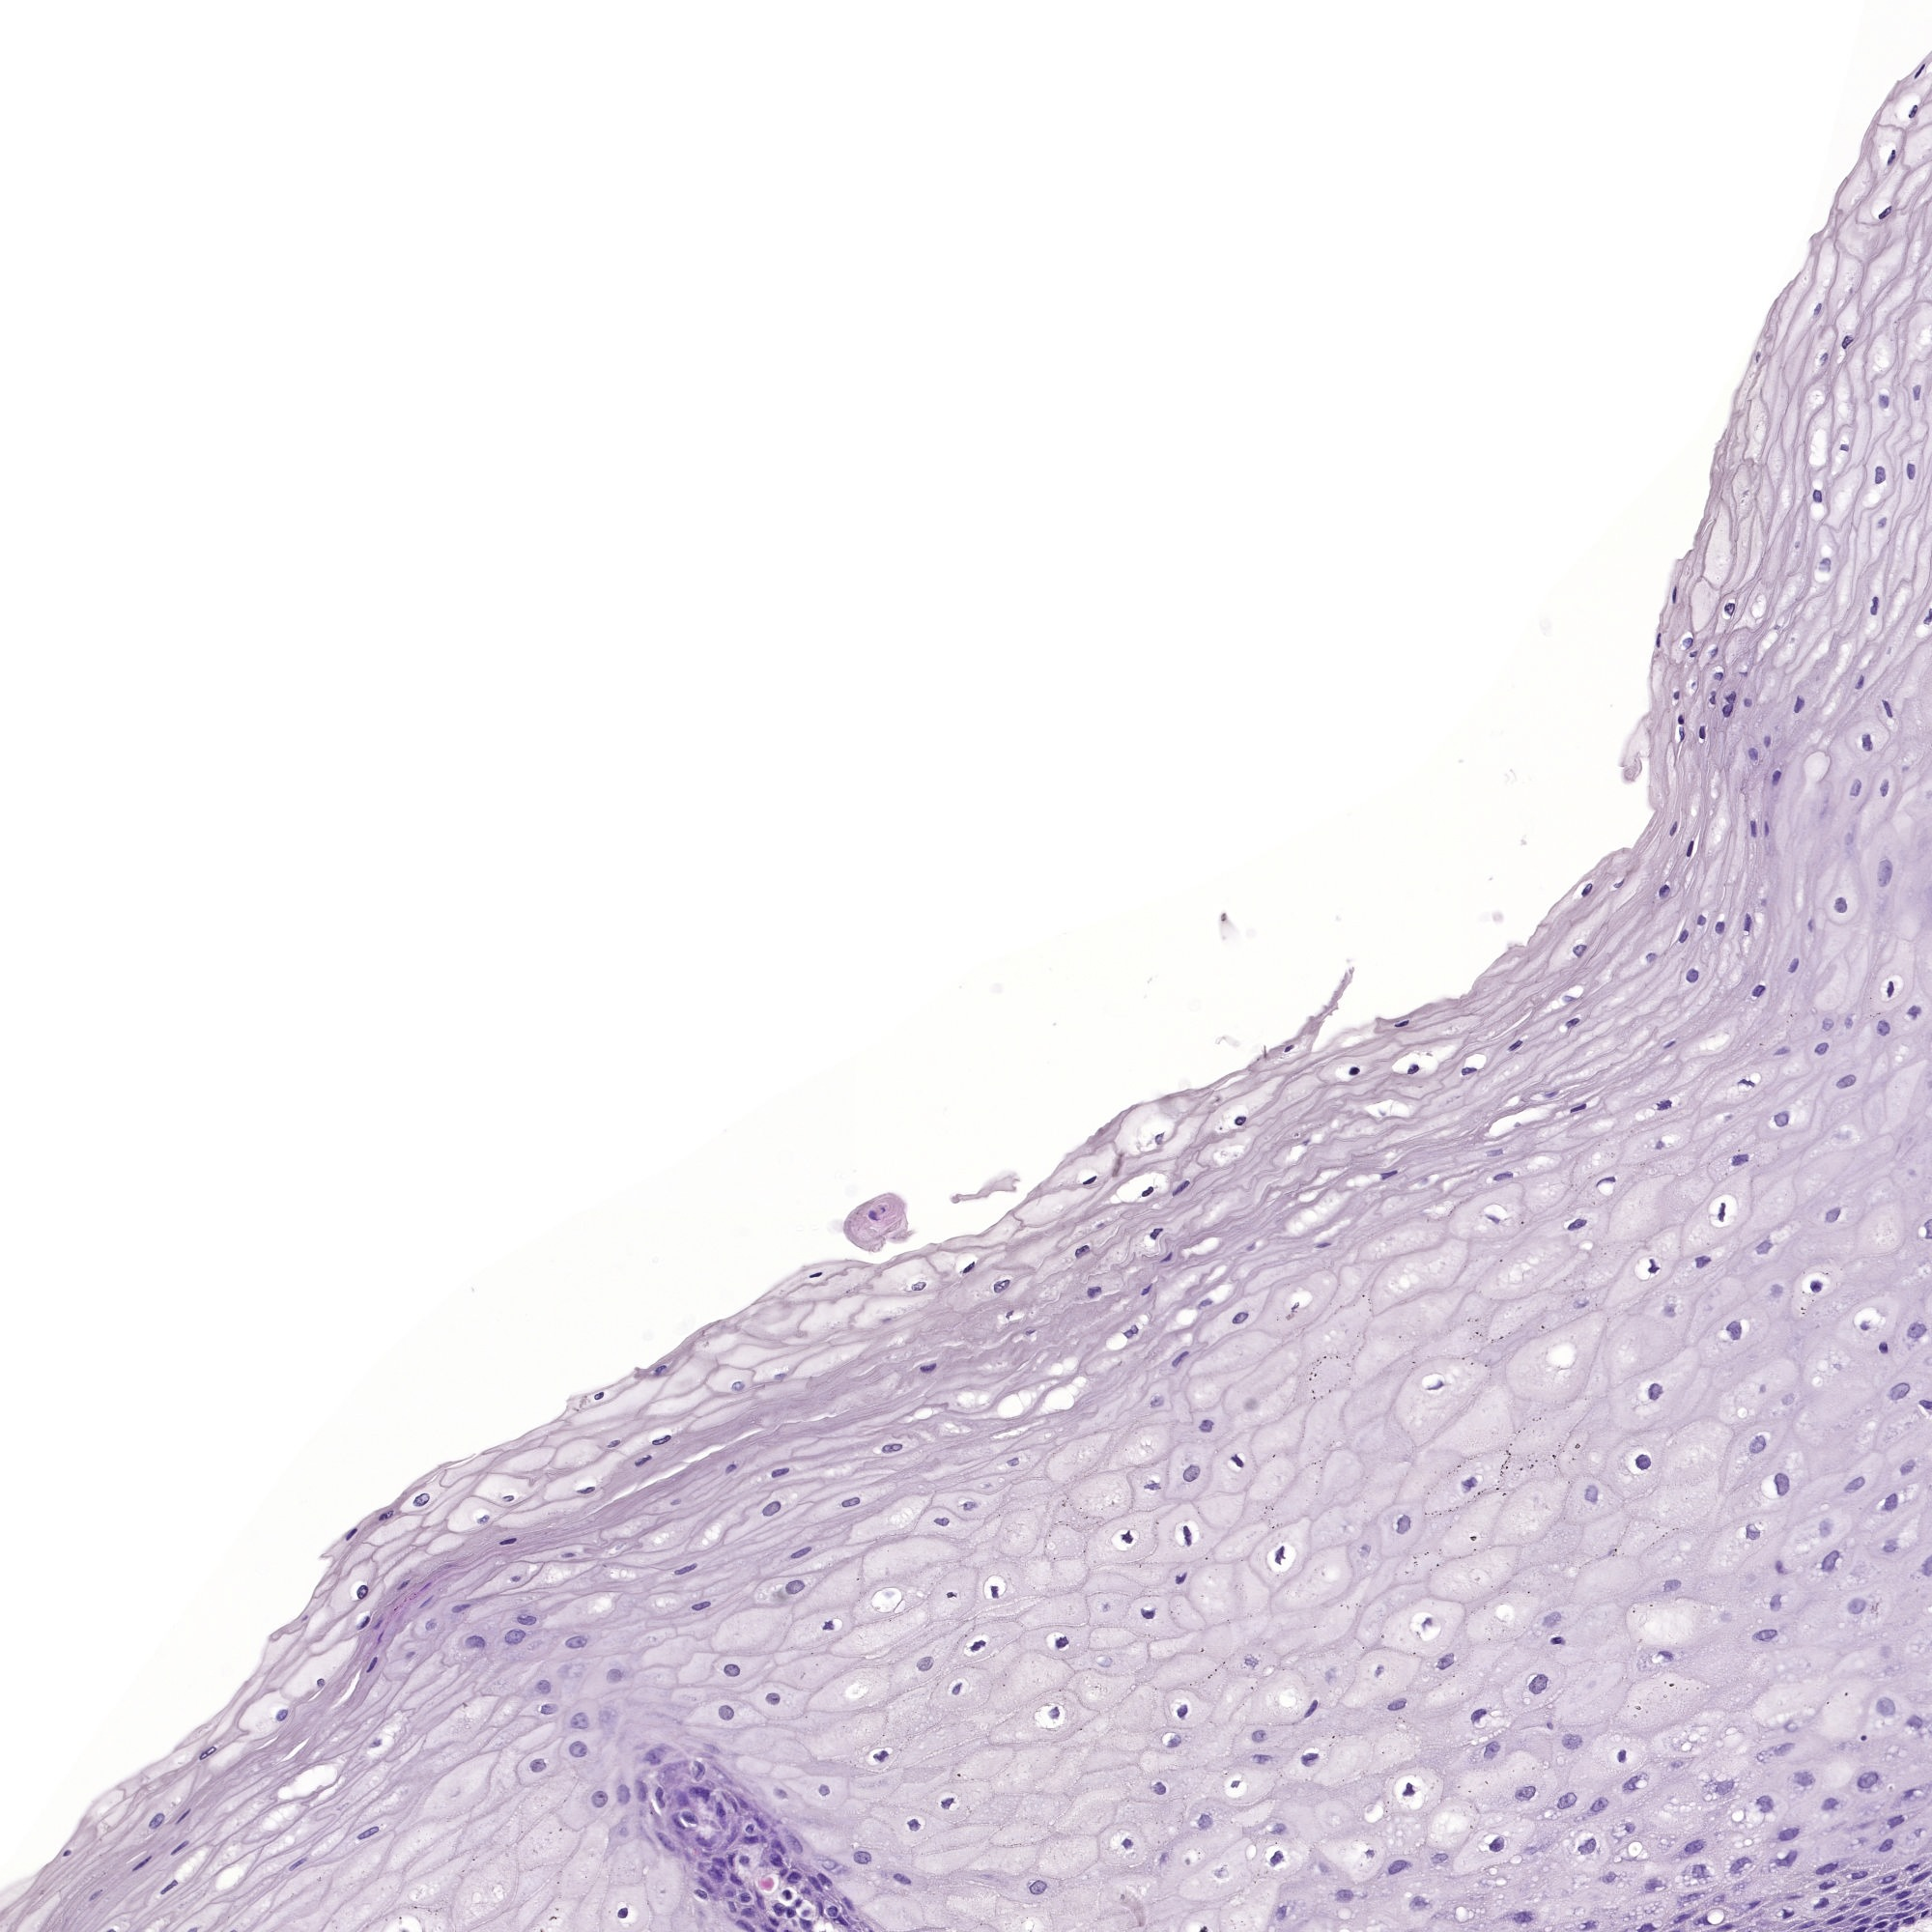epithelial: (1844, 1077, 1851, 1083), (1079, 1247, 1085, 1253), (1155, 1399, 1161, 1405), (1536, 1681, 1541, 1686), (1867, 740, 1870, 747), (1477, 1714, 1484, 1718), (1702, 1260, 1706, 1265), (1852, 1483, 1856, 1488), (1396, 1702, 1401, 1706), (1787, 1858, 1790, 1863), (1343, 1893, 1348, 1897), (706, 1882, 709, 1888), (791, 1583, 794, 1589), (660, 1440, 665, 1444), (890, 1447, 895, 1451), (1736, 1329, 1737, 1338), (621, 1789, 623, 1798), (642, 1789, 644, 1798), (1686, 642, 1690, 646), (1746, 920, 1748, 927), (1691, 975, 1695, 978), (1500, 1175, 1504, 1178), (1914, 1334, 1918, 1338), (1902, 1391, 1904, 1398), (1854, 1605, 1858, 1608), (1829, 1559, 1831, 1566), (1552, 1619, 1555, 1622), (1828, 1801, 1831, 1805), (1723, 1785, 1727, 1789), (1785, 1833, 1792, 1835), (1488, 1748, 1491, 1752), (1599, 1803, 1603, 1806), (1394, 1865, 1401, 1867), (1415, 1902, 1419, 1905), (1698, 1872, 1702, 1875), (1737, 1863, 1741, 1867), (1824, 1884, 1831, 1886), (1888, 1888, 1891, 1891), (1881, 1923, 1884, 1927), (750, 1826, 754, 1829), (621, 1831, 625, 1835), (547, 1707, 550, 1711), (506, 1497, 510, 1500), (849, 1500, 853, 1504), (1891, 154, 1893, 159), (1884, 786, 1886, 791), (1884, 870, 1886, 876), (1736, 1159, 1741, 1161), (1782, 1116, 1783, 1122), (1891, 1499, 1893, 1504), (1445, 1661, 1451, 1663), (1525, 1914, 1527, 1920), (1608, 1875, 1610, 1881), (1902, 1891, 1904, 1897), (614, 1674, 616, 1679), (168, 1886, 170, 1891), (481, 1518, 487, 1520), (1918, 73, 1920, 76), (1913, 110, 1914, 113), (1882, 212, 1886, 214), (1815, 495, 1819, 497), (1713, 651, 1714, 655), (1748, 702, 1750, 706), (1798, 702, 1799, 706), (1836, 904, 1840, 906), (1720, 927, 1721, 931), (1822, 1047, 1824, 1051), (1145, 1290, 1146, 1293), (1129, 1330, 1132, 1332), (1203, 1300, 1205, 1304), (1177, 1359, 1180, 1361), (1764, 1246, 1766, 1249), (1833, 1214, 1836, 1215), (1656, 1389, 1658, 1392), (1589, 1493, 1591, 1497), (1364, 1550, 1366, 1553), (1766, 1633, 1767, 1637), (1753, 1530, 1755, 1534), (1886, 1706, 1888, 1709), (1895, 1819, 1897, 1822), (1629, 1783, 1631, 1787), (1566, 1799, 1568, 1803), (1585, 1845, 1587, 1849), (1868, 1898, 1870, 1902), (1833, 1920, 1835, 1923), (1277, 1856, 1279, 1859), (1261, 1757, 1265, 1759), (1258, 1737, 1261, 1739), (1182, 1709, 1184, 1713), (1178, 1580, 1182, 1582), (775, 1845, 778, 1847), (752, 1836, 754, 1840), (734, 1801, 736, 1805), (720, 1810, 722, 1813), (658, 1798, 660, 1801), (688, 1815, 690, 1819), (743, 1859, 745, 1863), (717, 1861, 720, 1863), (778, 1792, 782, 1794), (725, 1714, 729, 1716), (729, 1668, 731, 1672), (536, 1764, 540, 1766), (543, 1684, 545, 1688), (432, 1624, 435, 1626), (421, 1499, 425, 1500), (685, 1568, 688, 1569), (800, 1552, 801, 1555), (941, 1520, 943, 1523), (970, 1504, 971, 1507), (1010, 1461, 1014, 1463), (660, 1368, 662, 1371), (1191, 1472, 1192, 1476), (1845, 341, 1847, 343), (1916, 391, 1918, 393), (1909, 469, 1911, 471), (1674, 826, 1675, 828), (1753, 824, 1755, 826), (1578, 950, 1580, 952), (1700, 918, 1702, 920), (1757, 991, 1759, 993), (1882, 1028, 1884, 1030), (1826, 1023, 1828, 1024), (1668, 1044, 1670, 1046), (1571, 1021, 1573, 1023), (1568, 1000, 1569, 1001), (1467, 1070, 1468, 1072), (1514, 1044, 1516, 1046), (1578, 1108, 1580, 1109), (1663, 1104, 1665, 1106), (1090, 1180, 1092, 1182), (1146, 1191, 1148, 1192), (816, 1274, 817, 1276), (970, 1267, 971, 1269), (918, 1286, 920, 1288), (1168, 1258, 1169, 1260), (1654, 1269, 1656, 1270), (1907, 1467, 1909, 1468), (1757, 1444, 1759, 1445), (1472, 1481, 1474, 1483), (1782, 1748, 1783, 1750), (1766, 1801, 1767, 1803), (1693, 1845, 1695, 1847), (1571, 1739, 1573, 1741), (1523, 1790, 1525, 1792), (1438, 1858, 1440, 1859), (1824, 1868, 1826, 1870), (1822, 1902, 1824, 1904), (1907, 1920, 1909, 1921), (1203, 1821, 1205, 1822), (1307, 1757, 1309, 1759), (1237, 1782, 1238, 1783), (1146, 1614, 1148, 1615), (899, 1877, 901, 1879), (816, 1884, 817, 1886), (793, 1875, 794, 1877), (773, 1859, 775, 1861), (761, 1822, 763, 1824), (702, 1840, 704, 1842), (732, 1907, 734, 1909), (747, 1925, 748, 1927), (656, 1757, 658, 1759), (579, 1720, 580, 1721), (529, 1621, 531, 1622), (515, 1633, 517, 1635), (368, 1831, 370, 1833), (143, 1863, 145, 1865), (375, 1744, 377, 1746), (458, 1606, 460, 1608), (386, 1514, 387, 1516), (508, 1541, 510, 1543), (587, 1488, 589, 1490), (771, 1506, 773, 1507), (778, 1472, 780, 1474), (727, 1468, 729, 1470), (640, 1461, 642, 1463), (614, 1444, 616, 1445), (1129, 1537, 1131, 1539), (738, 1384, 740, 1385)
inflammatory: (1497, 1842, 1502, 1847), (1644, 1460, 1645, 1463)
lymphocyte: (361, 1589, 366, 1594), (975, 1645, 980, 1647), (911, 1822, 915, 1824), (426, 1601, 430, 1603), (1679, 720, 1681, 722), (1353, 1070, 1355, 1072), (1414, 1069, 1415, 1070), (948, 1803, 950, 1805), (803, 1913, 805, 1914), (832, 1911, 833, 1913), (425, 1587, 426, 1589)
